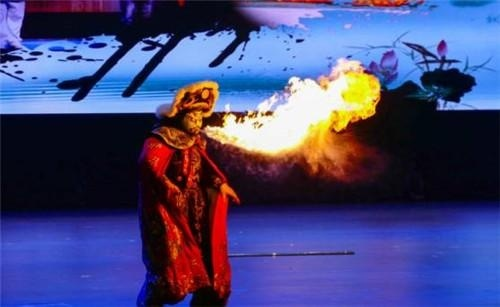fire: (217, 57, 381, 167)
